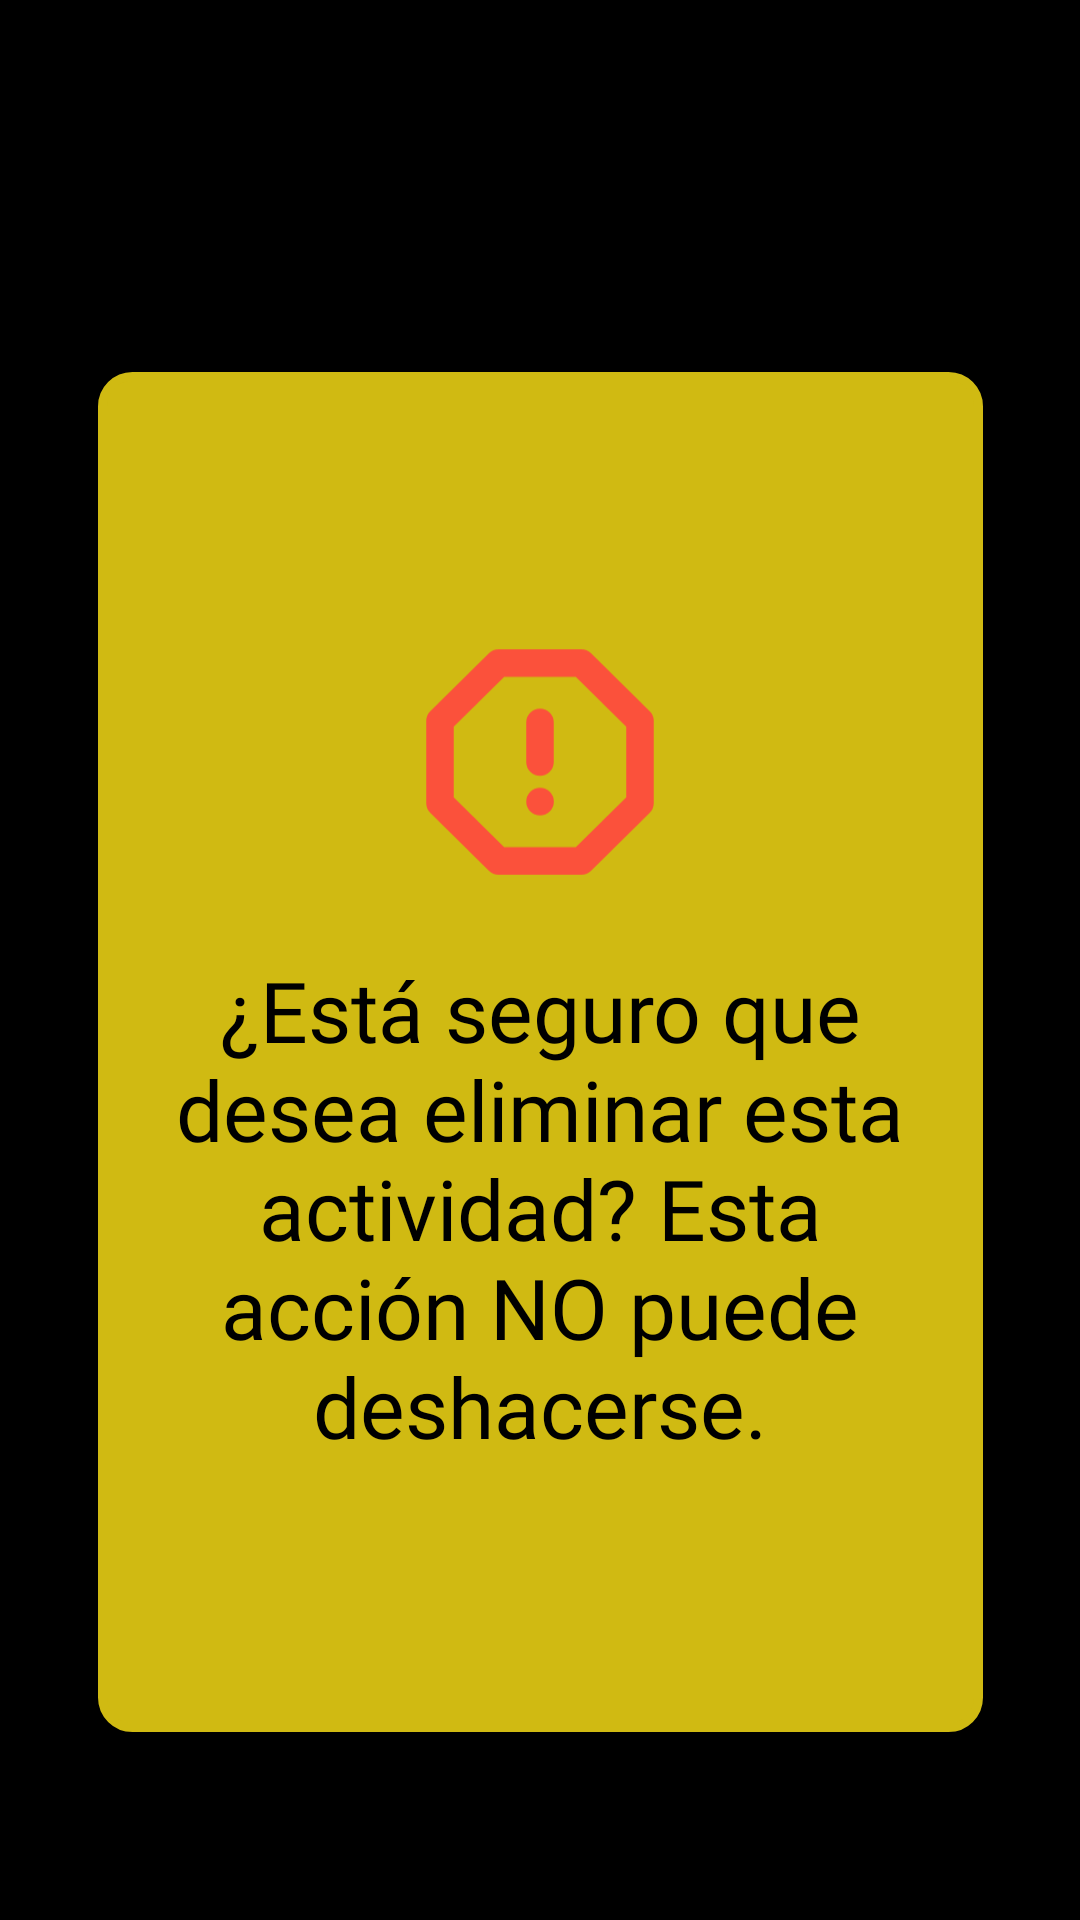

Icons on this 1080×1920 Android screen, each with its box as box(x1, y1, x2, y2):
alertoctagon: box(426, 649, 654, 875)
